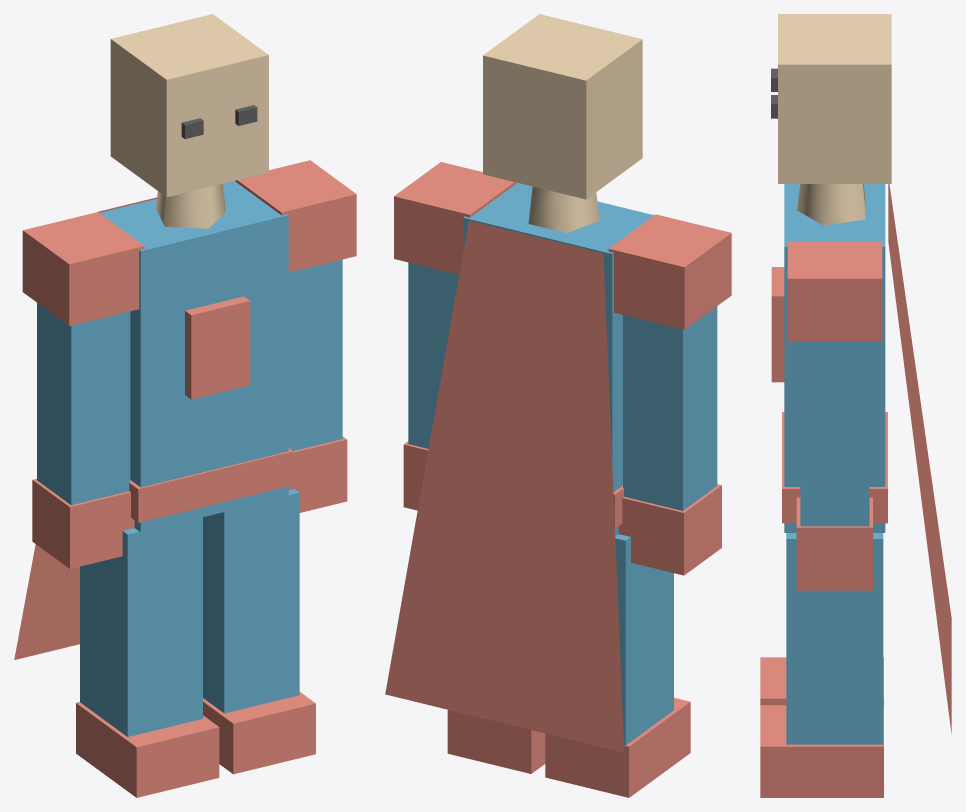
The model's file is dps.glb.
The picture shows the model from 3 angles, left to right: view 1: azimuth 30°, elevation 25°; view 2: azimuth 150°, elevation 25°; view 3: azimuth 270°, elevation 25°; orthographic projection.
Size of the model in its own units: 1.07 by 2.5 by 0.606.
